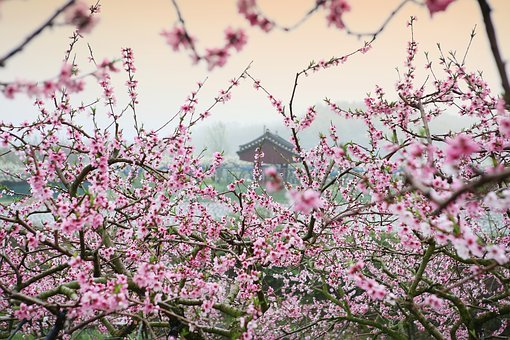flower: (10, 18, 508, 333)
